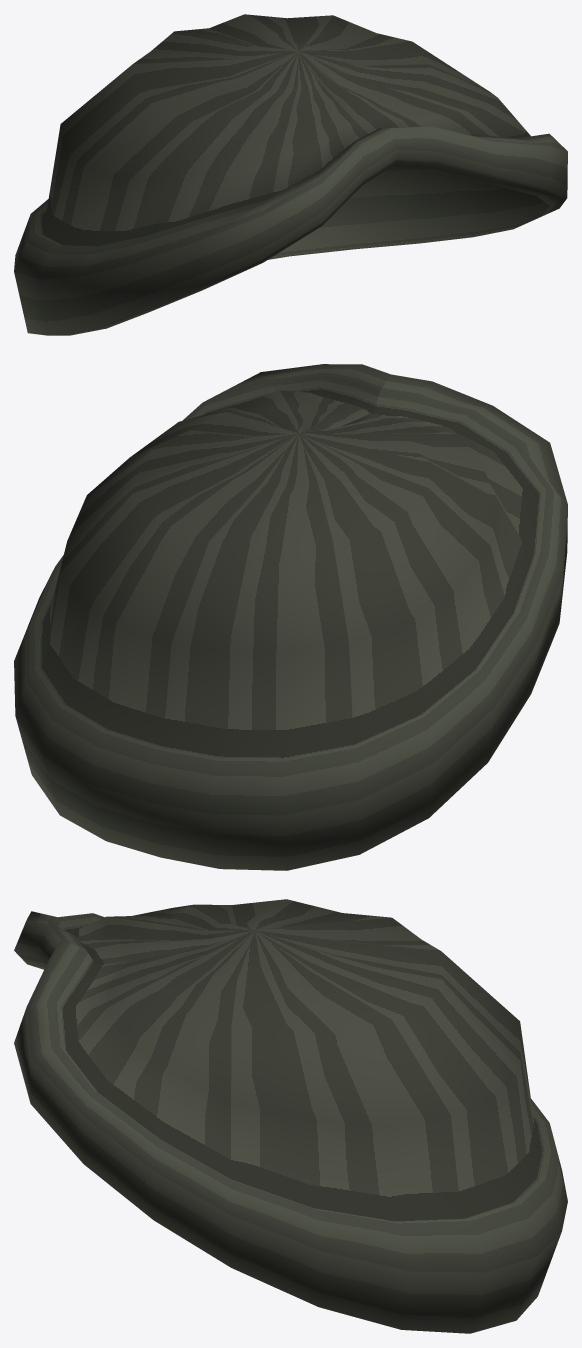
Rendered from headwear_knit.glb.
The picture shows the model from 3 angles, top to bottom: view 1: azimuth 30°, elevation 25°; view 2: azimuth 150°, elevation 25°; view 3: azimuth 270°, elevation 25°; orthographic projection. The views are drawn at different scales.
Parts seen in each view (by area): view 1: headwear_knit; view 2: headwear_knit; view 3: headwear_knit.
Boxes of the visible parts, x1,y1,x2,y2 form: headwear_knit: (14, 14, 567, 335); headwear_knit: (14, 364, 567, 870); headwear_knit: (14, 899, 567, 1333).
Bounding box in the file's own units: 0.2304 × 0.1561 × 0.232.
1 material, 1 textured.
